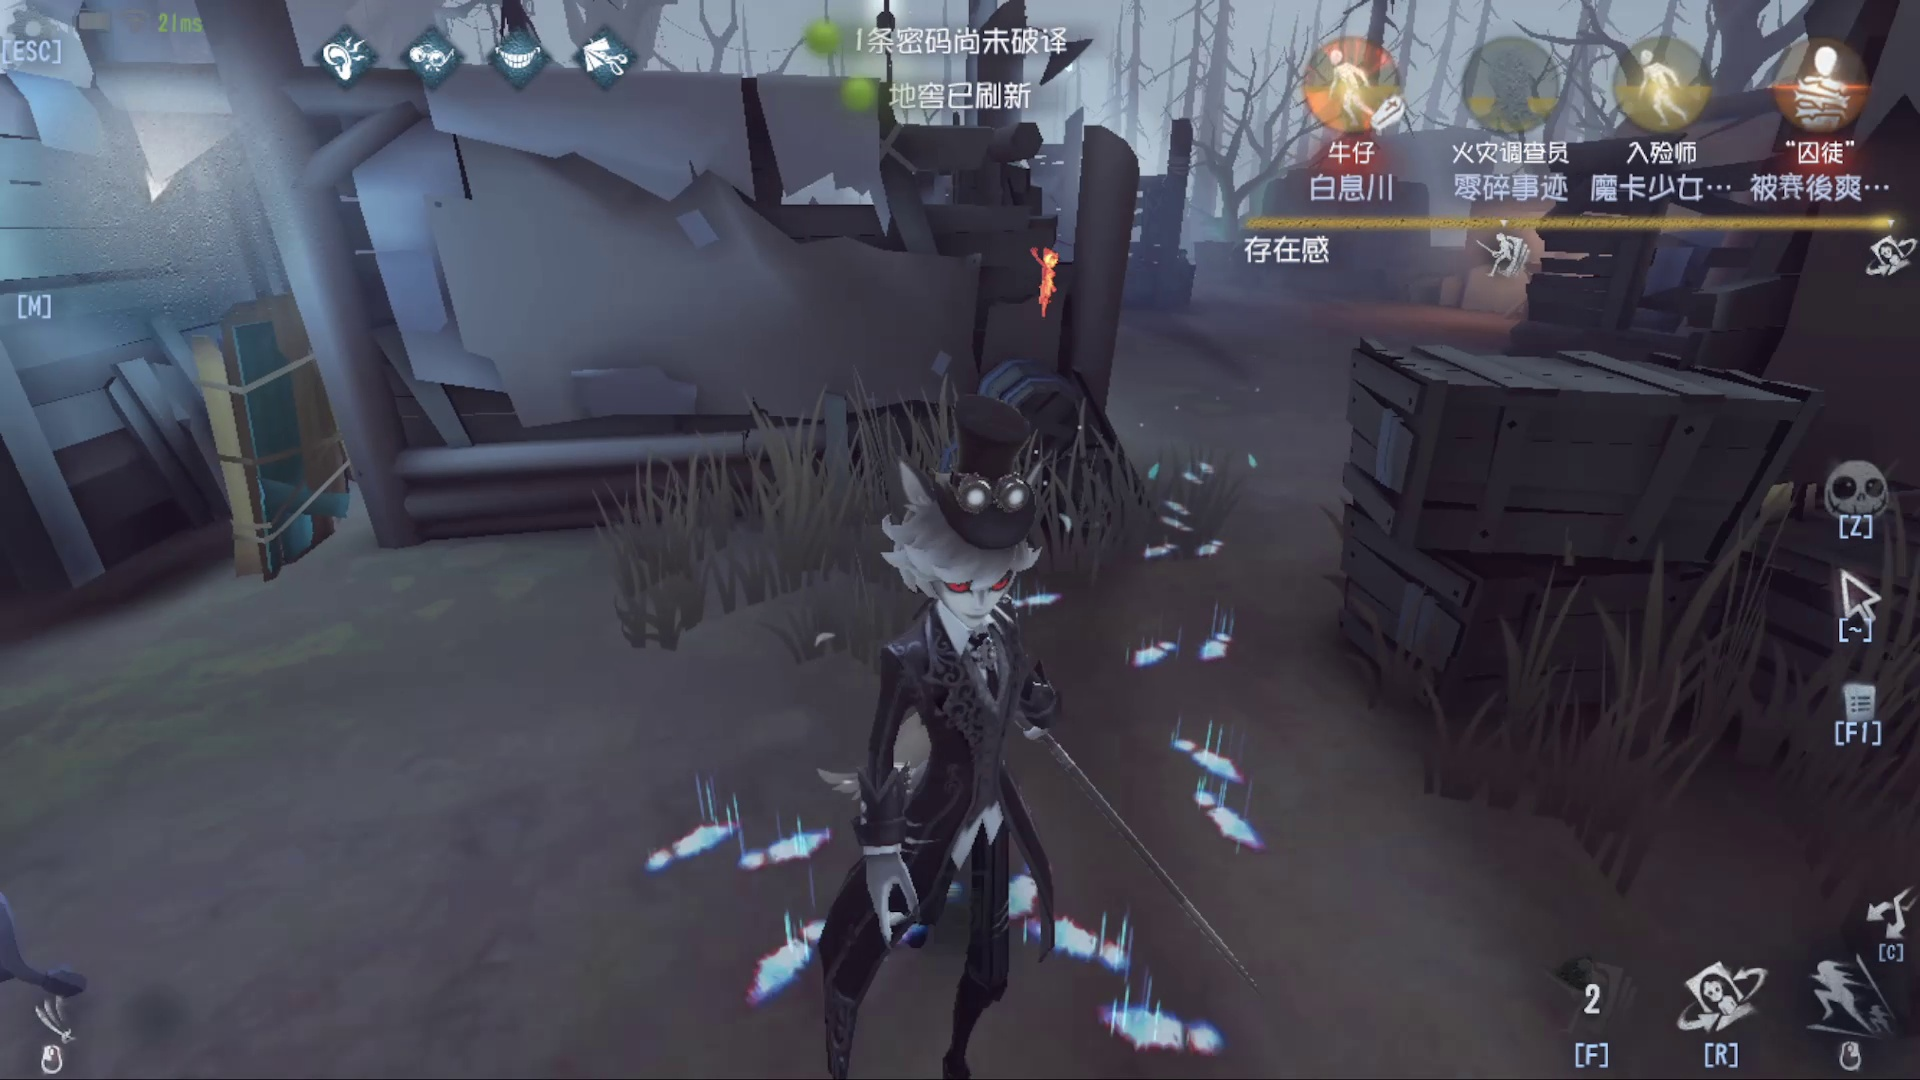木板: (183, 286, 386, 566)
求生者: (1010, 224, 1073, 328)
